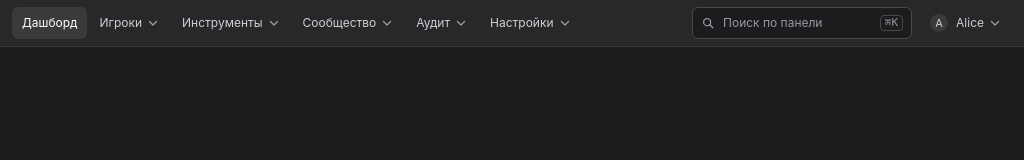
it: TopNav › hides items the user has no permission for, and the whole entry when nothing is left
Click the button "Аудит" at [442, 23], box left=406, top=7, right=478, bottom=39
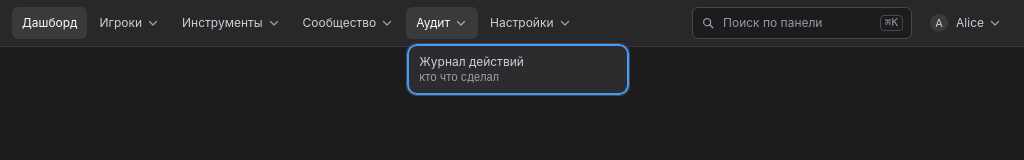
Check: the menu item "Журнал действий кто что сделал" is shown, box left=419, top=54, right=524, bottom=84
